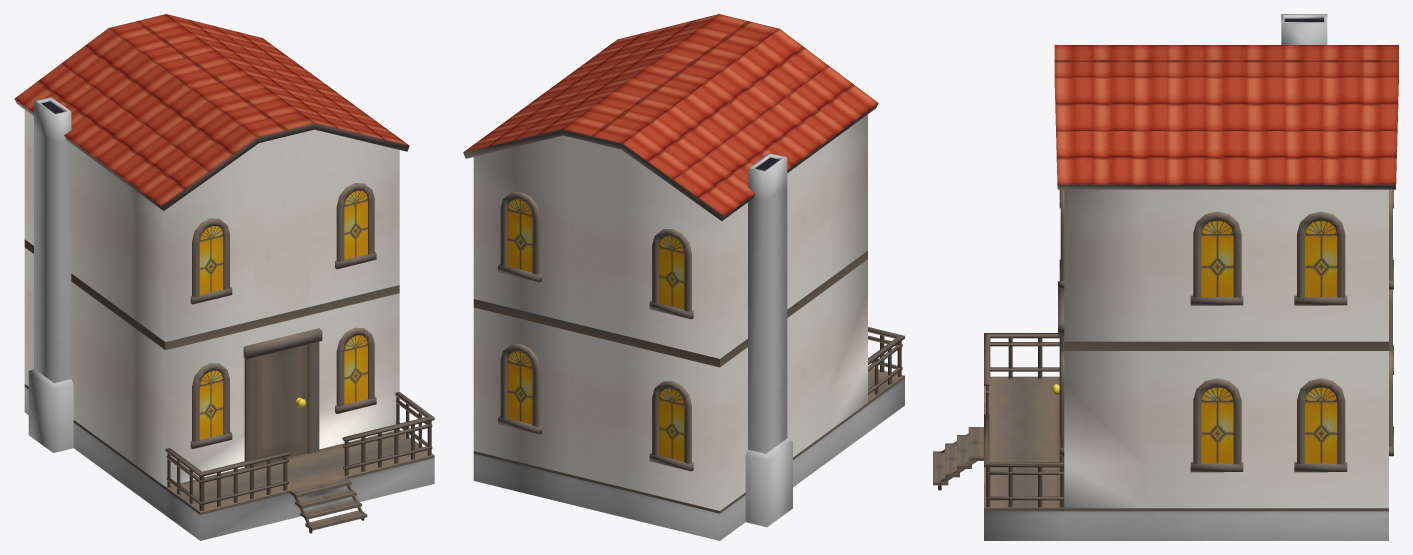
File: Town Houses Variant 4 (Red).fbx
3 renders of one model, left to right at view 1: azimuth 30°, elevation 25°; view 2: azimuth 150°, elevation 25°; view 3: azimuth 270°, elevation 25°, orthographic. The views are drawn at different scales.
Parts seen in each view (by area): view 1: Town House 4 V1; view 2: Town House 4 V1; view 3: Town House 4 V1.
Boxes of the visible parts, x1,y1,x2,y2 form: Town House 4 V1: [14, 14, 434, 540]; Town House 4 V1: [463, 14, 904, 540]; Town House 4 V1: [933, 14, 1398, 540].
Size of the model in its own units: 625 by 820 by 836.
Materials: 1 (1 with a texture image).
